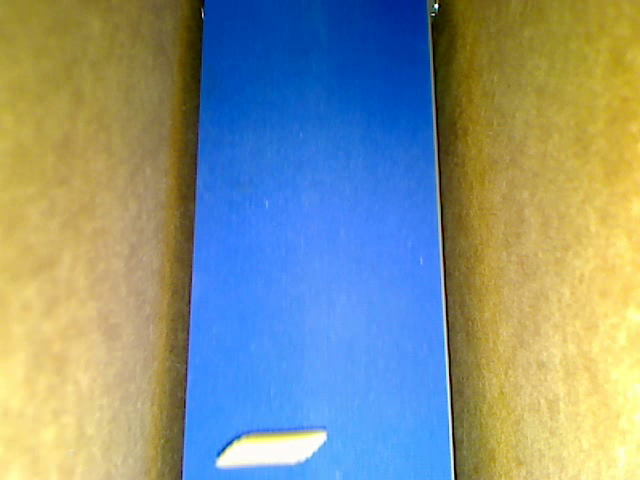penne: (215, 431, 327, 468)
